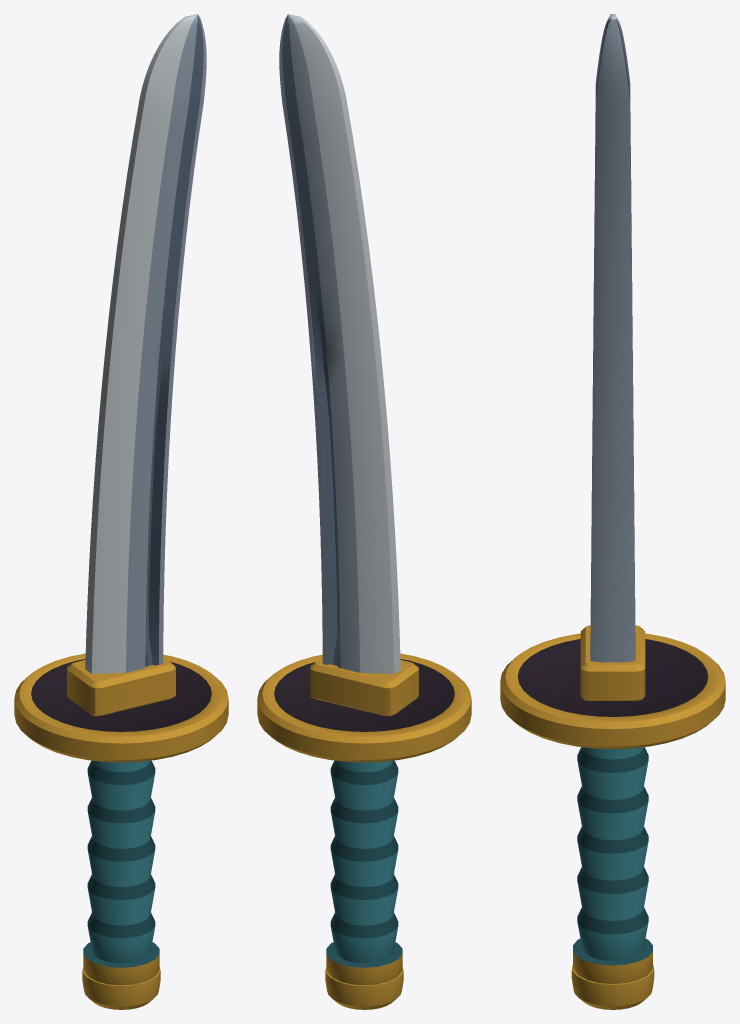
The model's file is Katana_23.glb.
The picture shows the model from 3 angles, left to right: view 1: azimuth 30°, elevation 25°; view 2: azimuth 150°, elevation 25°; view 3: azimuth 270°, elevation 25°; orthographic projection. The views are drawn at different scales.
Parts seen in each view (by area): view 1: Katana_23; view 2: Katana_23; view 3: Katana_23.
Boxes of the visible parts, <box> form: Katana_23: <box>14,14,228,1009</box>; Katana_23: <box>257,14,471,1009</box>; Katana_23: <box>500,14,725,1009</box>.
Size of the model in its own units: 1.29 by 6.39 by 1.29.
